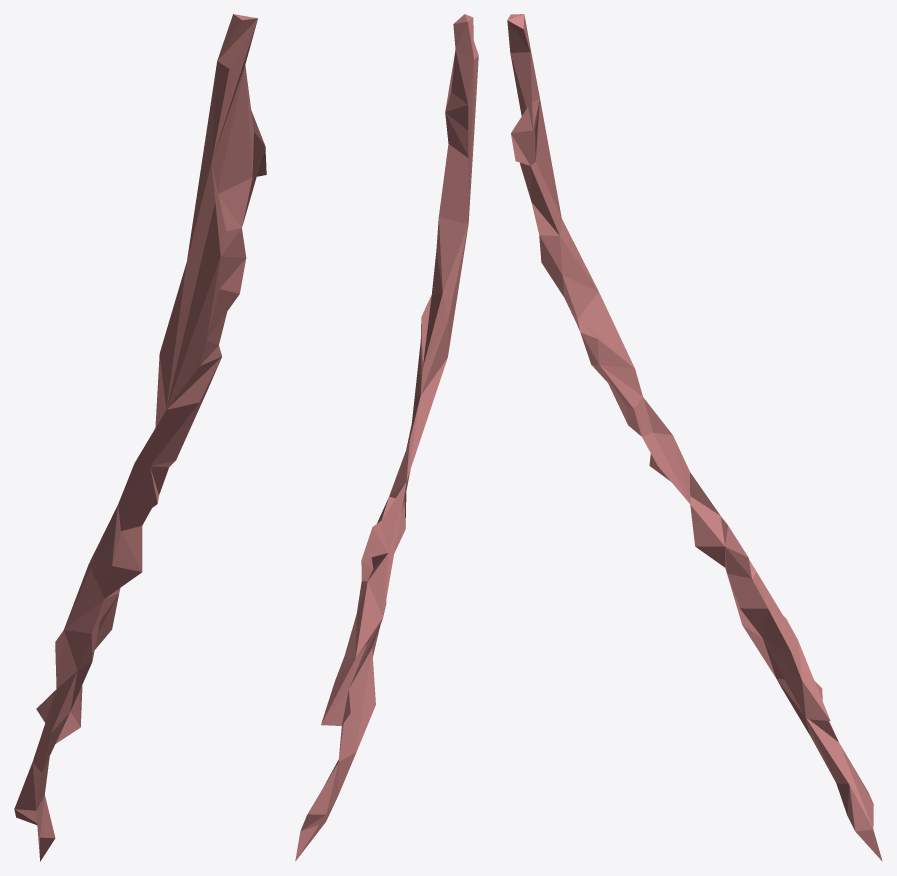
The model's file is Spinalis_colli_muscle.r.glb.
3 views of the same model, side by side, from view 1: azimuth 30°, elevation 25°; view 2: azimuth 150°, elevation 25°; view 3: azimuth 270°, elevation 25° (orthographic). The views are drawn at different scales.
Visible parts, largest first — view 1: Spinalis_colli_muscle.r; view 2: Spinalis_colli_muscle.r; view 3: Spinalis_colli_muscle.r.
Boxes of the visible parts, x1=… form: Spinalis_colli_muscle.r: x1=14, y1=14, x2=266, y2=861; Spinalis_colli_muscle.r: x1=295, y1=14, x2=478, y2=861; Spinalis_colli_muscle.r: x1=507, y1=14, x2=882, y2=861.
Bounding box in the file's own units: 0.00593 × 0.1027 × 0.0417.
